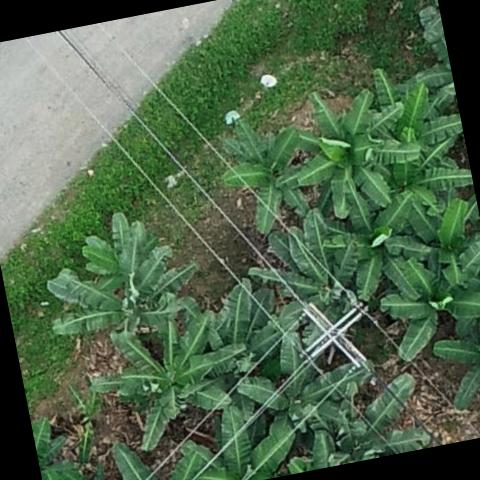Banana-plant: (30, 196, 211, 362), (78, 297, 259, 463), (279, 71, 428, 229), (301, 170, 446, 318), (227, 322, 386, 456), (240, 204, 378, 343), (284, 353, 436, 472), (208, 98, 327, 246), (191, 258, 319, 390), (363, 226, 480, 364), (359, 126, 480, 253), (423, 299, 480, 417)
